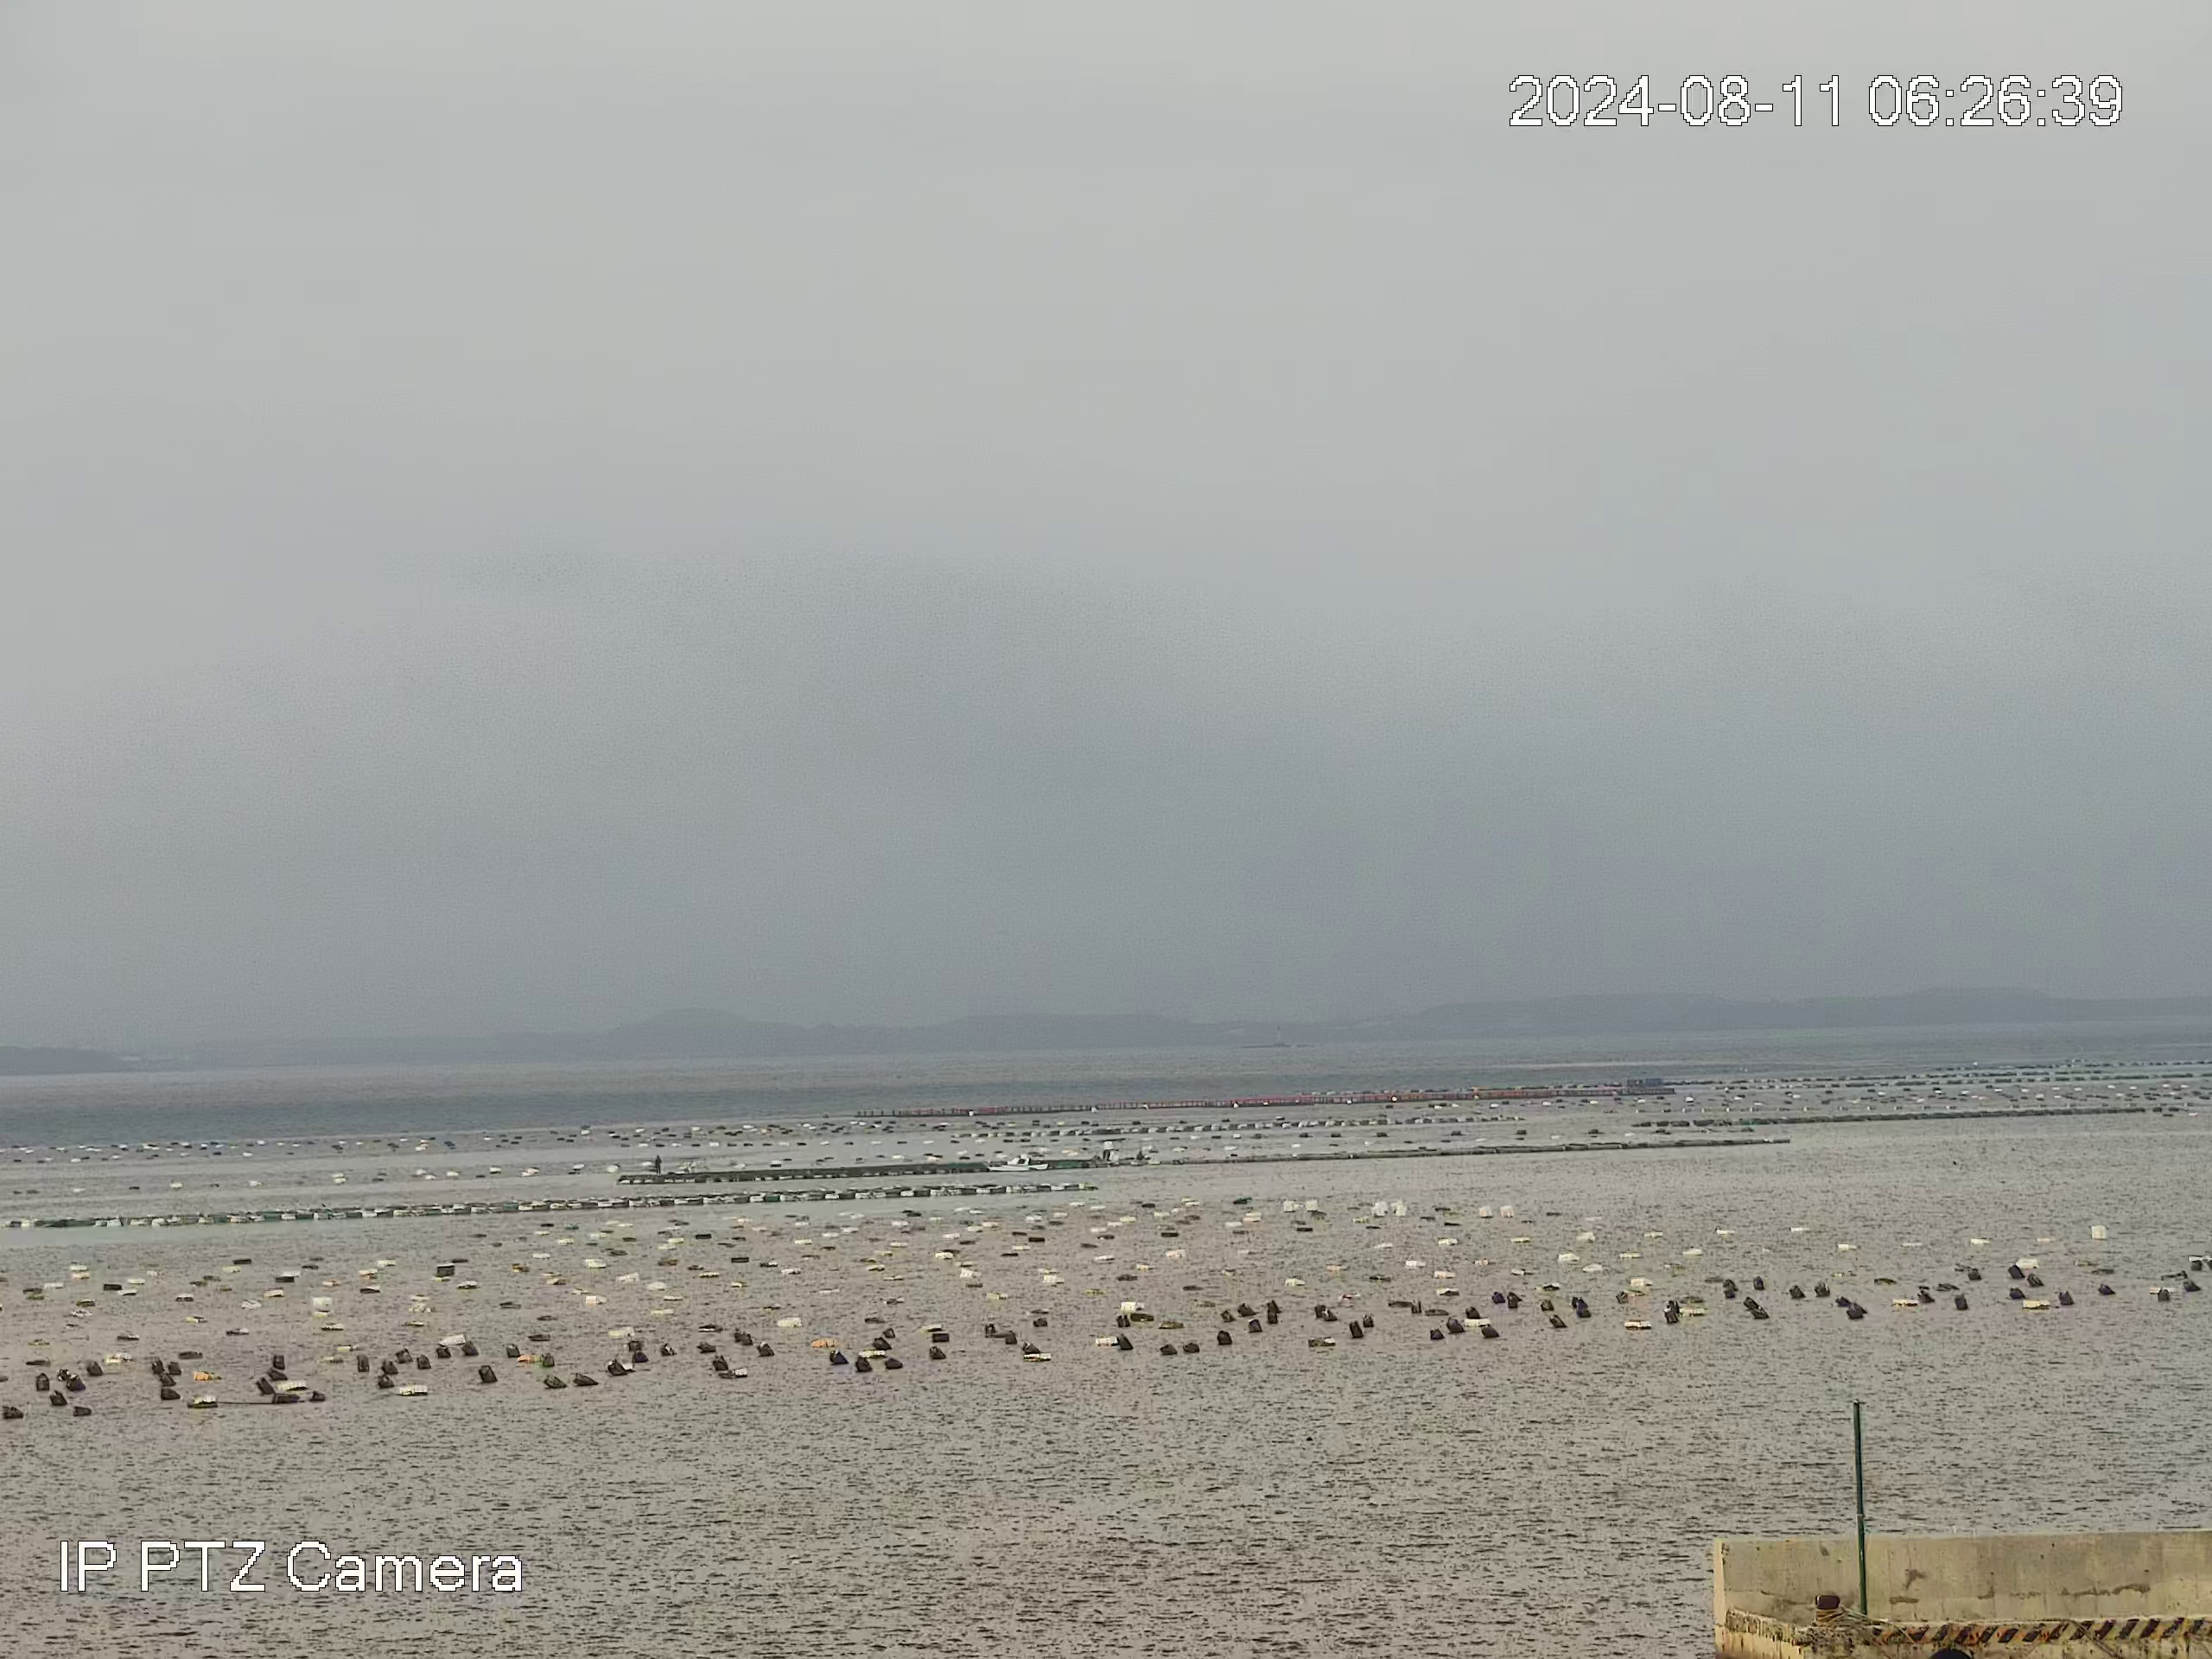boat: (984, 1152, 1050, 1173)
